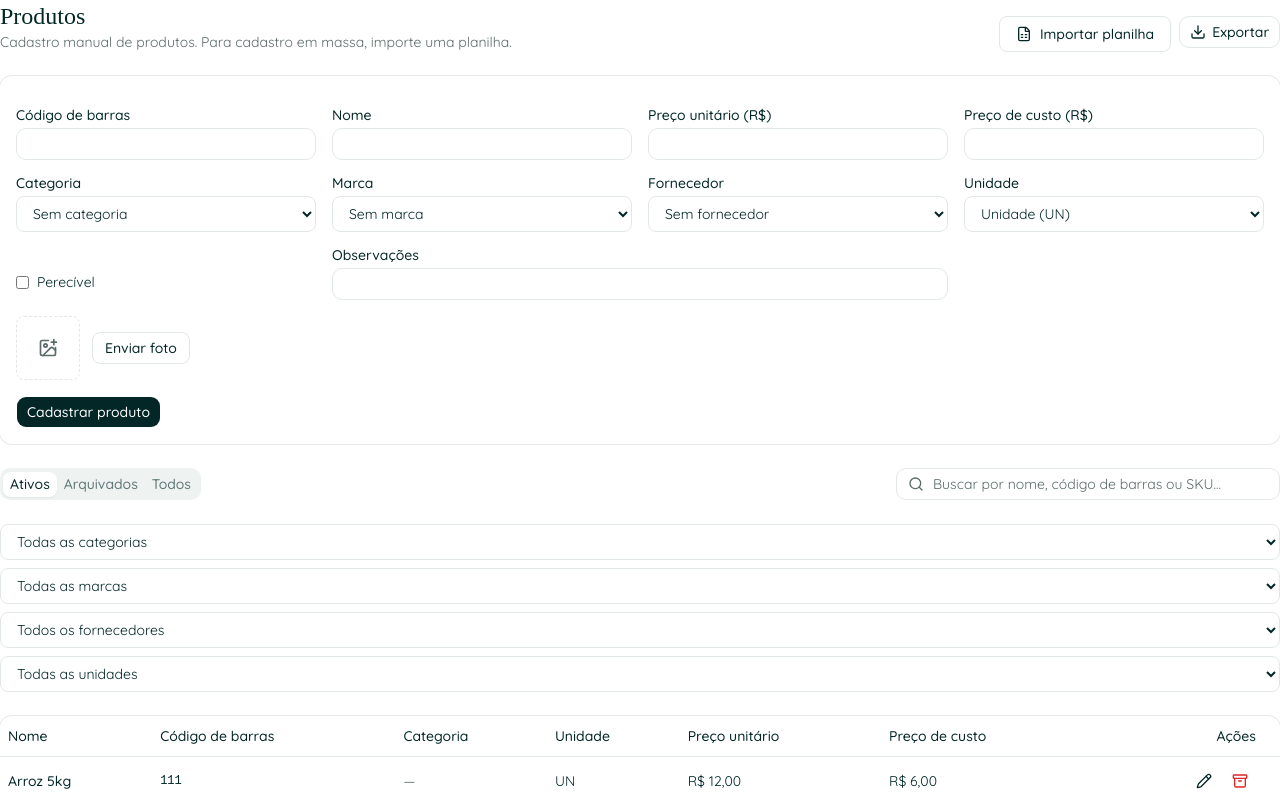
Test: ProductsPage — linha do tempo de preços no diálogo de edição › erro no histórico não bloqueia a edição: mostra a mensagem e o botão de salvar continua ativo
Click the button named "Editar Arroz 5kg": (1204, 780) [1188,764,1220,796]
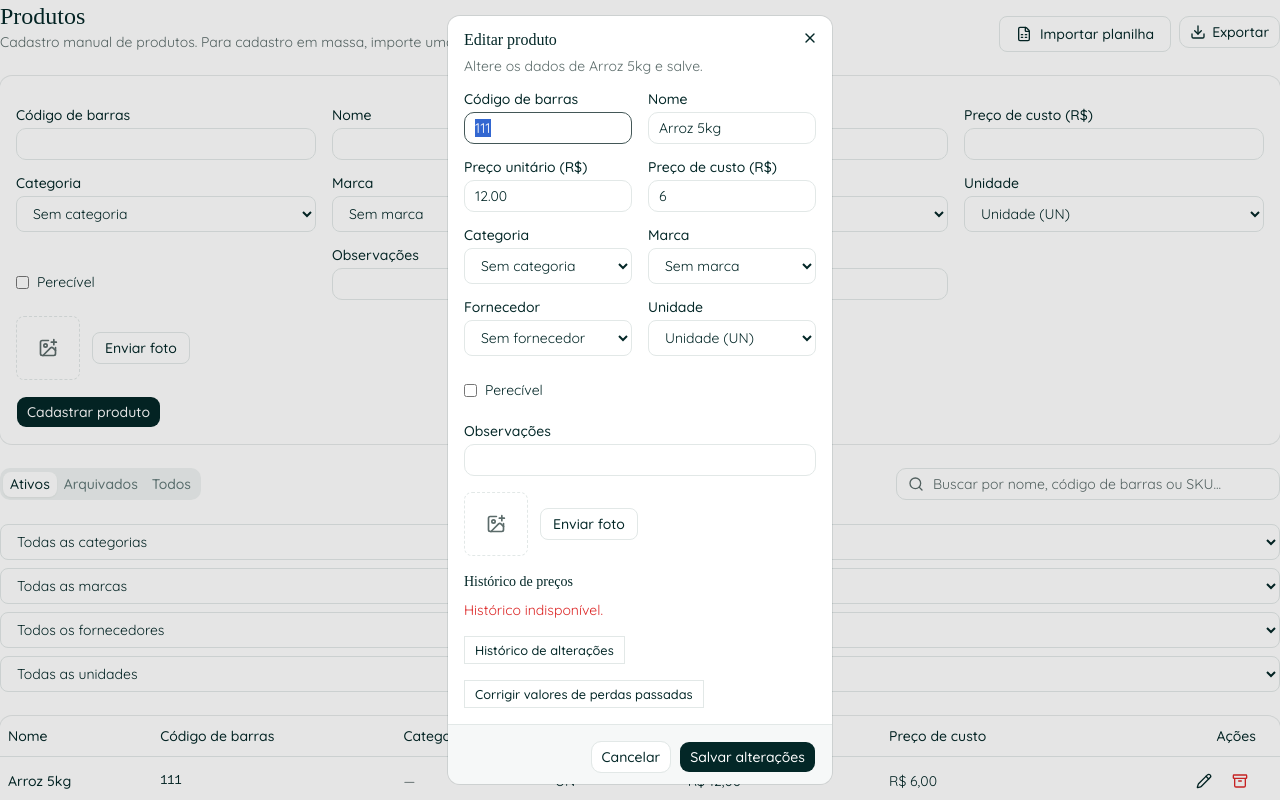
Now the text "Histórico indisponível." is shown, box [464,601,603,619]
Now the button "Salvar alterações" is enabled, box [679,741,816,773]
